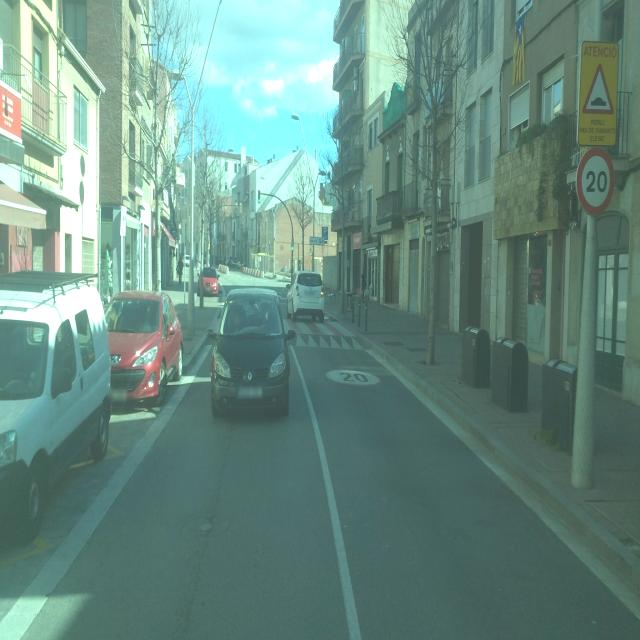car: (0, 273, 112, 543), (209, 290, 291, 418), (105, 289, 184, 406), (286, 270, 326, 324), (200, 266, 220, 297)
